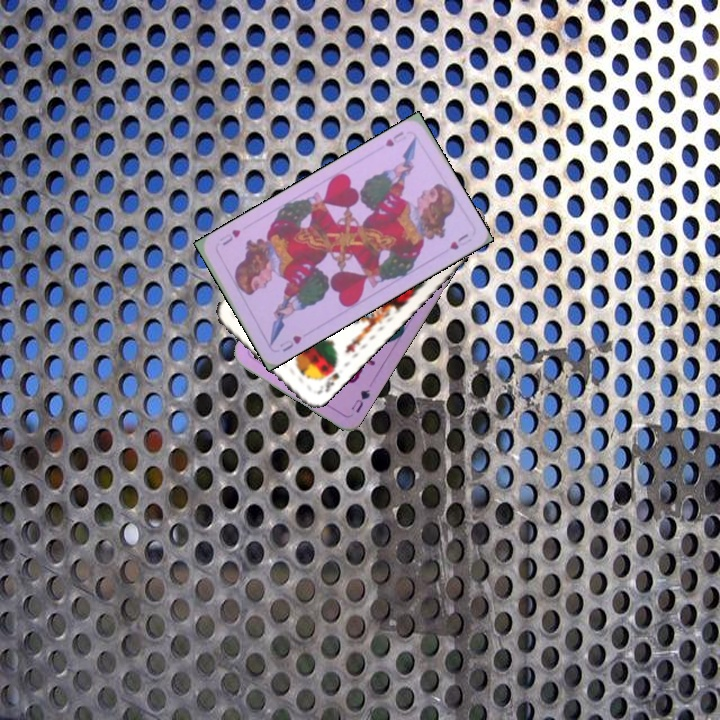GU: (347, 385, 373, 416)
HU: (276, 331, 304, 354), (381, 127, 409, 149)
SK: (313, 360, 342, 397)
